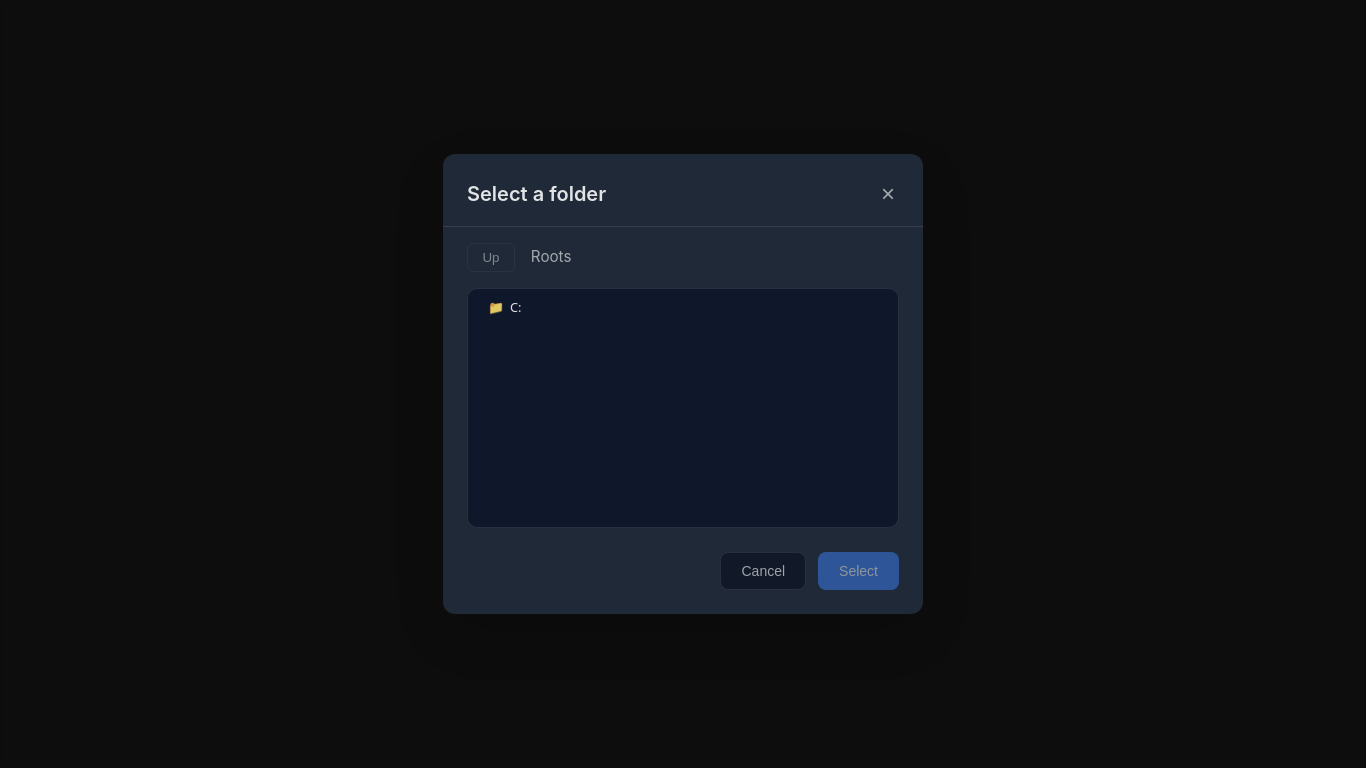
Scenario: FolderPickerModal › renders nested children after expanding loaded folders
Click the text "C:". click: point(516, 308)
box: [510, 299, 522, 317]
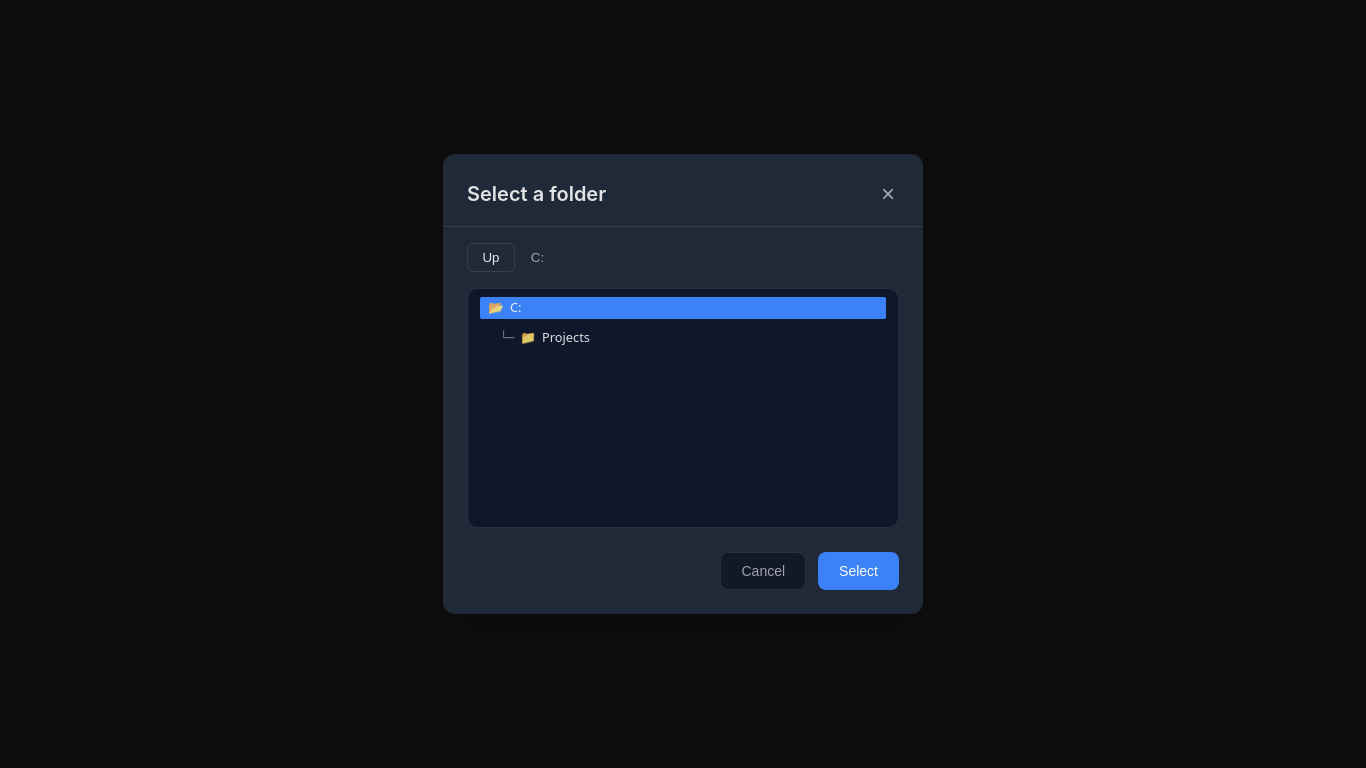
Expected: the text "Projects" is shown
Click the text "Projects". click: point(566, 338)
box: [542, 329, 590, 347]
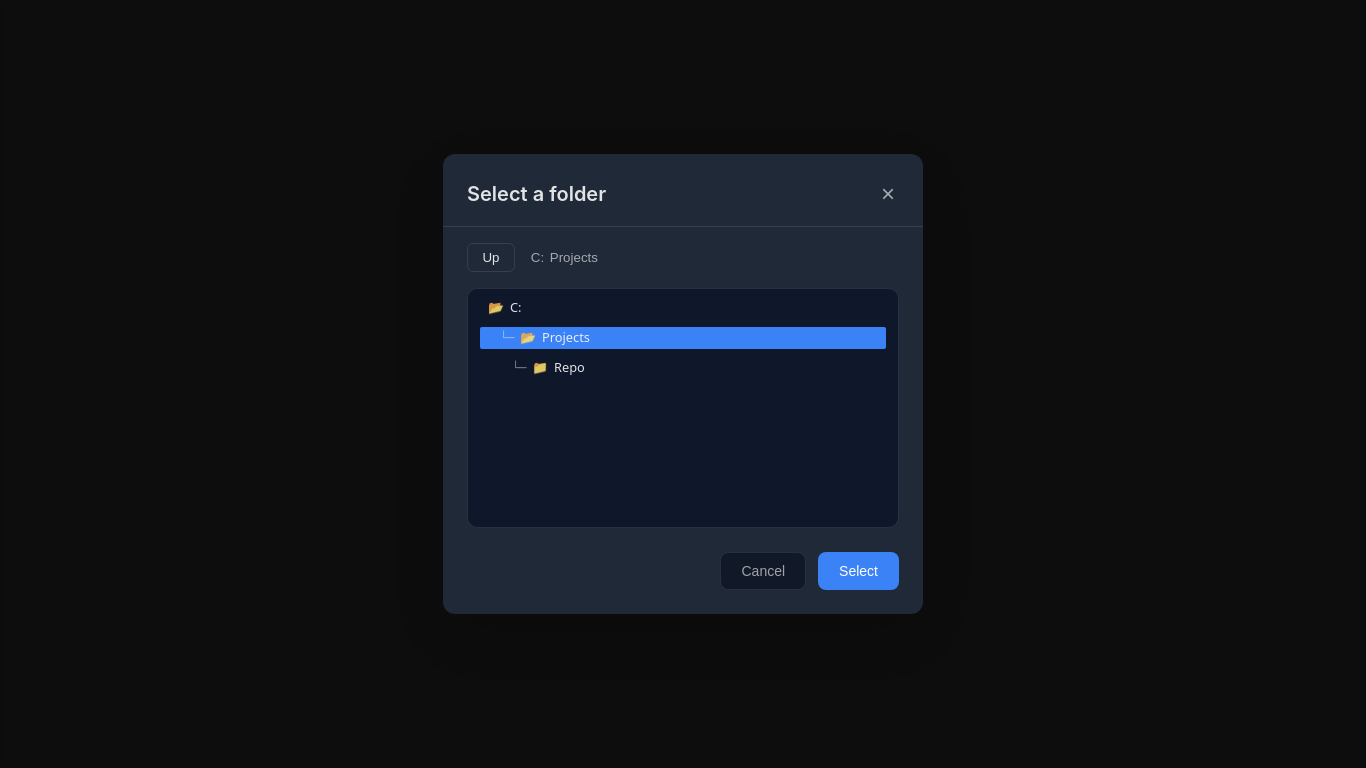
Expected: the text "Repo" is shown, [554, 359, 585, 377]
